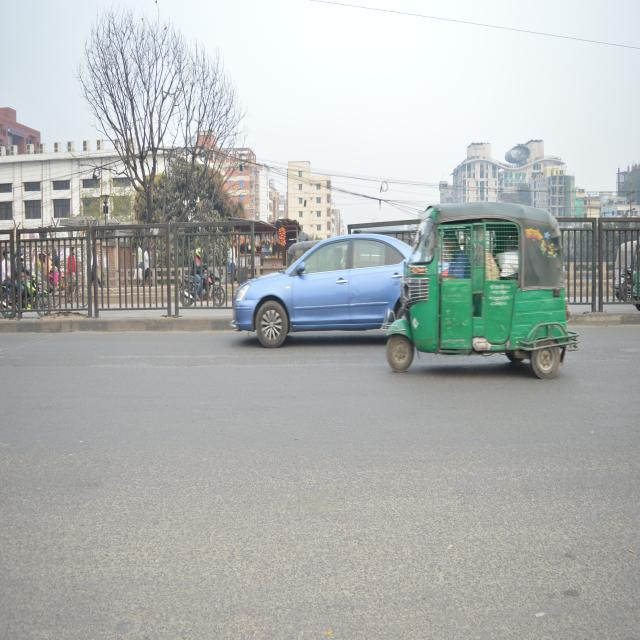car: (222, 230, 420, 345)
motorbike: (175, 265, 230, 317)
